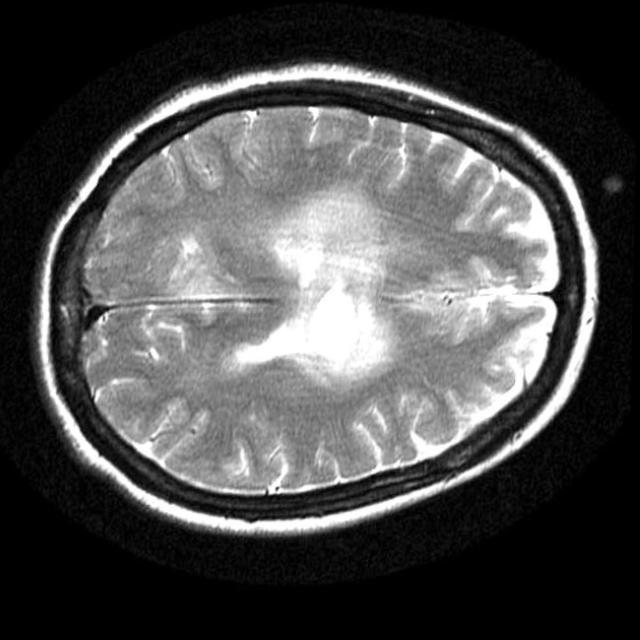Tumor: (244, 296, 377, 367)
